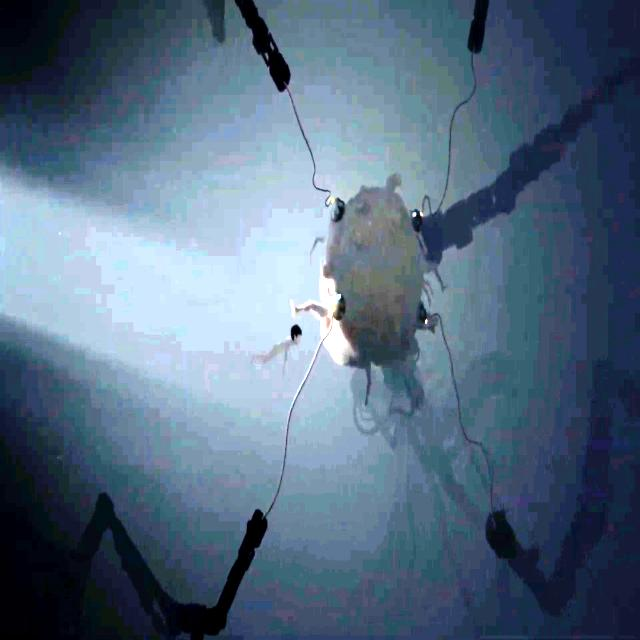blob: (290, 174, 432, 406)
boy: (258, 324, 303, 369)
interactible: (328, 194, 347, 229), (330, 289, 346, 321), (416, 301, 429, 331), (412, 207, 424, 230)
mechanism: (420, 49, 640, 262), (486, 371, 640, 611), (48, 493, 268, 640), (232, 0, 291, 97), (469, 0, 486, 57)
